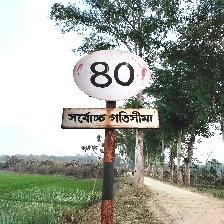Speed-limit: (63, 48, 157, 130)
